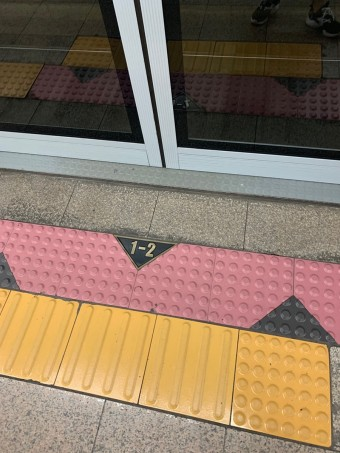guideBlock: (152, 313, 236, 418), (4, 298, 103, 381), (74, 309, 159, 403)
warningBlock: (239, 325, 331, 438), (216, 251, 293, 330), (69, 219, 140, 302), (138, 246, 213, 317), (3, 222, 71, 296), (298, 258, 340, 345)
